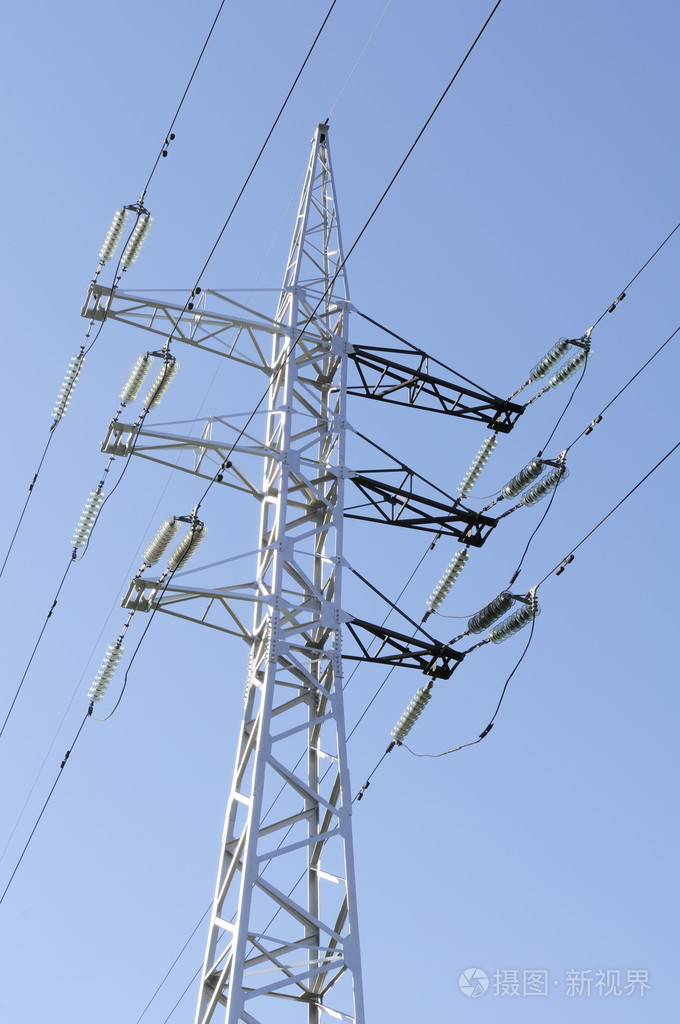insulator: (425, 546, 465, 609), (390, 682, 430, 745), (86, 639, 124, 704), (487, 599, 536, 648), (49, 350, 83, 418), (464, 591, 510, 635), (164, 523, 205, 572), (143, 356, 180, 410), (115, 210, 150, 266), (497, 455, 541, 499), (522, 461, 564, 506), (459, 438, 492, 495), (68, 491, 99, 550), (139, 519, 174, 569), (547, 347, 589, 388), (98, 208, 128, 263), (527, 338, 567, 379), (118, 354, 146, 406)
